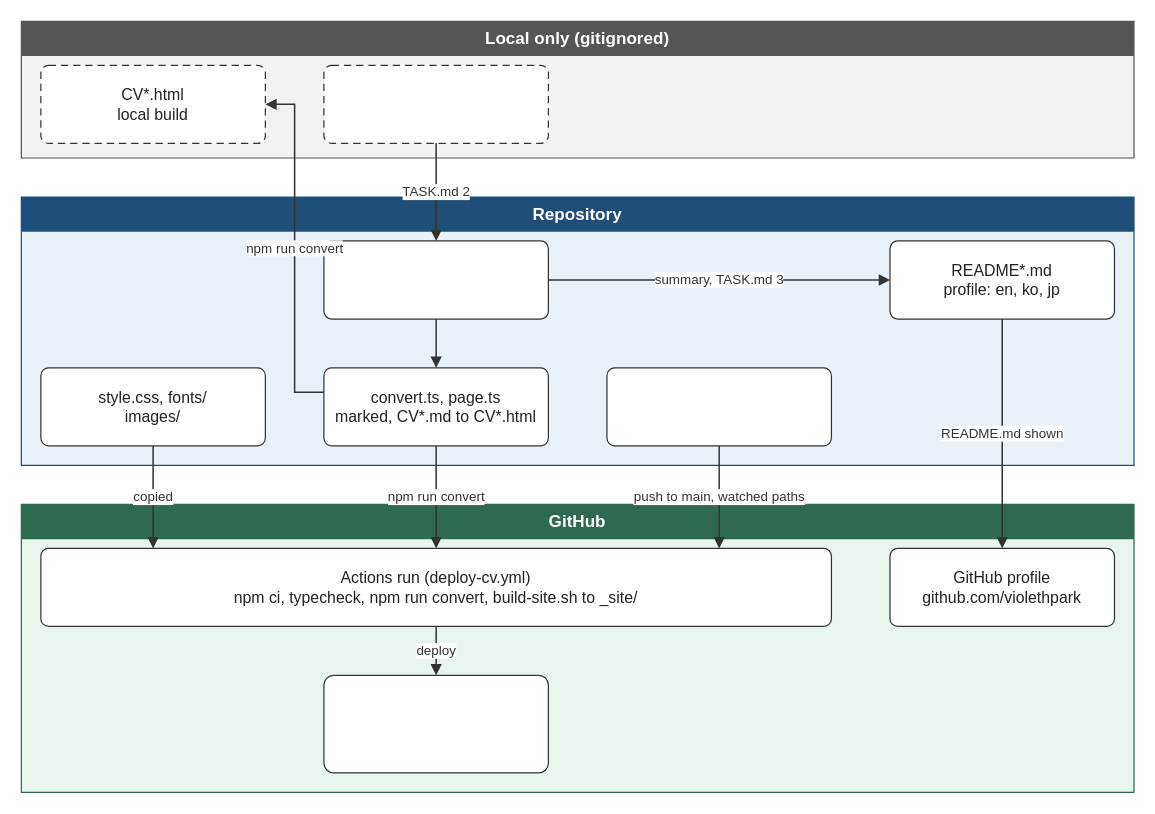
Some shapes in this 1155 by 814 pixel diagram are drawn without their labels. Each missing label, with the centre of its shape:
"CV*.md CV: en, ko, jp" goes at point 435,279.
"deploy-cv.yml .github/workflows/" goes at point 718,406.
"GitHub Pages about.violethpark.com /, /en/, /ko/, /jp/" goes at point 435,723.
"RESUME*.md source resume, Korean" goes at point 435,103.
